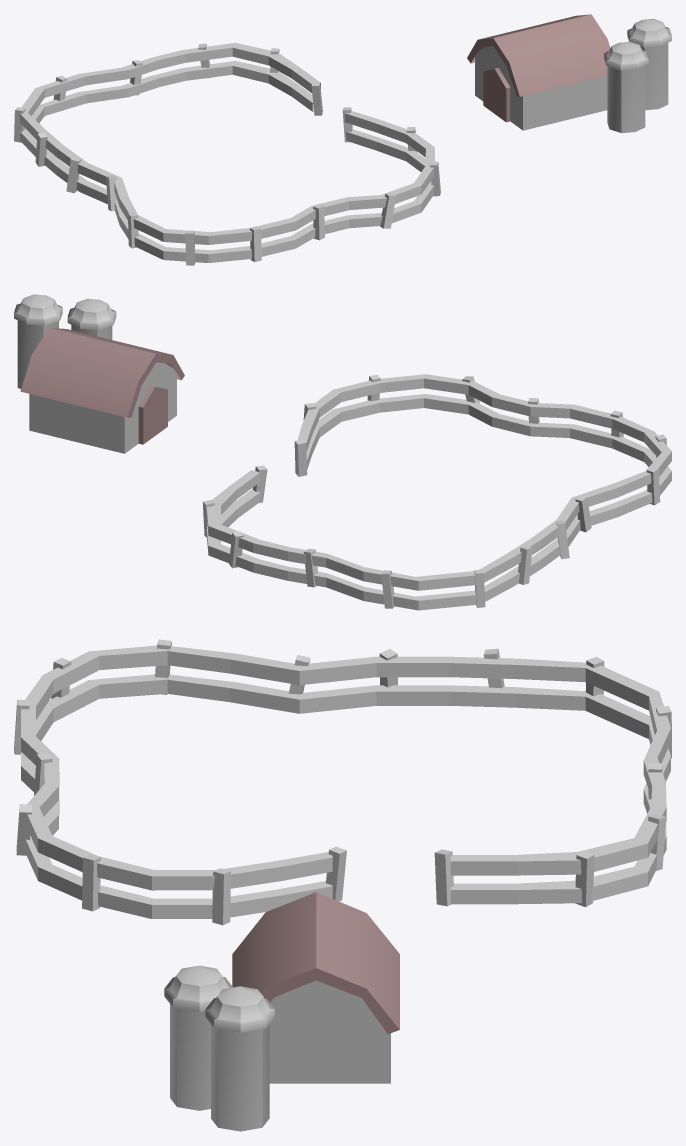
File: Barn_Geo.fbx
3 renders of one model, top to bottom at view 1: azimuth 30°, elevation 25°; view 2: azimuth 150°, elevation 25°; view 3: azimuth 270°, elevation 25°, orthographic. The views are drawn at different scales.
Visible parts, largest first — view 1: Fence_Geo, Barn_Geo; view 2: Fence_Geo, Barn_Geo; view 3: Fence_Geo, Barn_Geo.
Part boxes in pixels (x1,y1,x2,y2): Fence_Geo: (14,42,440,265); Barn_Geo: (467,14,671,133); Fence_Geo: (202,374,671,610); Barn_Geo: (14,294,184,453); Fence_Geo: (14,639,671,925); Barn_Geo: (164,892,399,1131).
Bounding box in the file's own units: 20.42 × 3.04 × 13.03.
